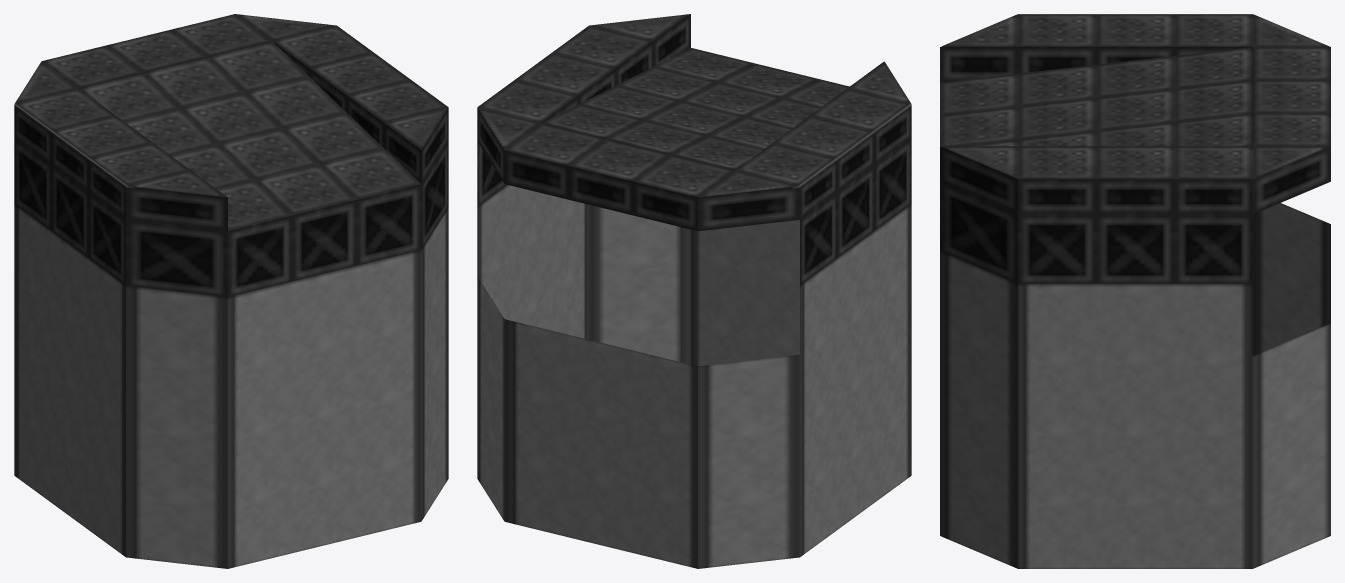
Rendered from soyuz_launcher_tower_base.obj.
3 views of the same model, side by side, from view 1: azimuth 30°, elevation 25°; view 2: azimuth 150°, elevation 25°; view 3: azimuth 270°, elevation 25° (orthographic). The views are drawn at different scales.
Parts seen in each view (by area): view 1: Cube.007_Cube; view 2: Cube.007_Cube; view 3: Cube.007_Cube.
Boxes of the visible parts, x1,y1,x2,y2 form: Cube.007_Cube: (14, 14, 448, 568); Cube.007_Cube: (477, 14, 911, 568); Cube.007_Cube: (940, 14, 1330, 568).
Size of the model in its own units: 5 by 5.5 by 5.
